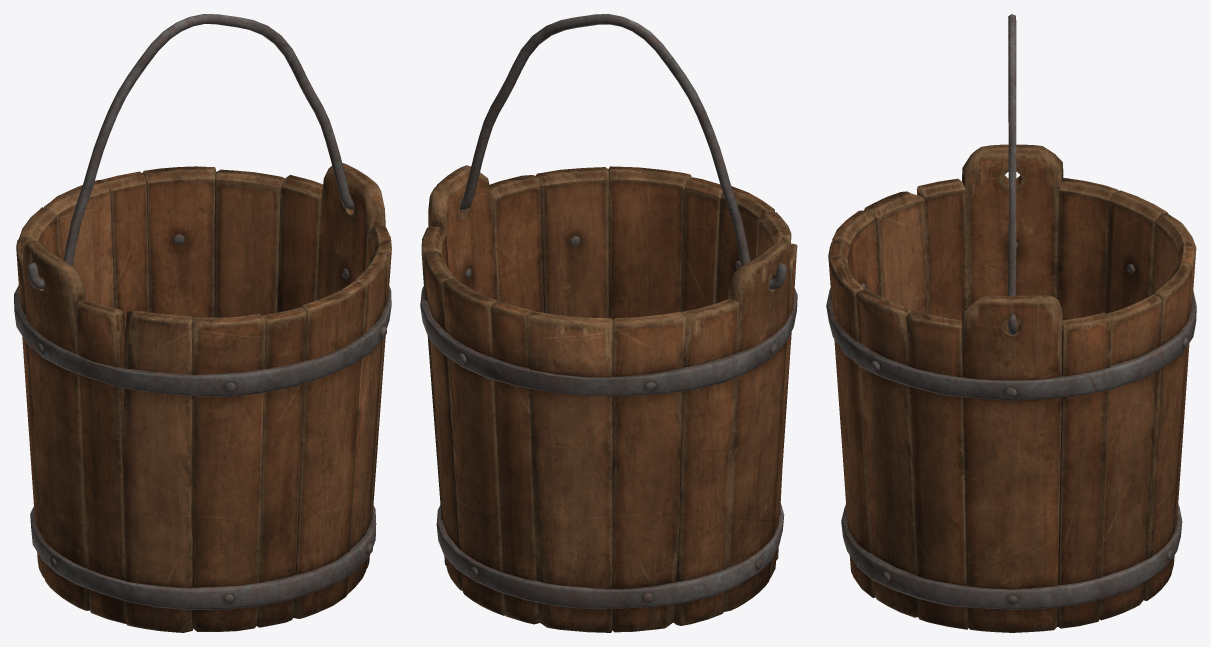
File: bucket.glb
The picture shows the model from 3 angles, left to right: view 1: azimuth 30°, elevation 25°; view 2: azimuth 150°, elevation 25°; view 3: azimuth 270°, elevation 25°; orthographic projection.
Visible parts, largest first — view 1: wooden_bucket_01, wooden_bucket_01_handle; view 2: wooden_bucket_01, wooden_bucket_01_handle; view 3: wooden_bucket_01, wooden_bucket_01_handle.
Part boxes in pixels (x1,y1,x2,y2): wooden_bucket_01: (14, 163, 391, 632); wooden_bucket_01_handle: (27, 14, 354, 289); wooden_bucket_01: (420, 165, 797, 632); wooden_bucket_01_handle: (437, 14, 786, 289); wooden_bucket_01: (826, 144, 1196, 632); wooden_bucket_01_handle: (1008, 14, 1016, 335).
Bounding box in the file's own units: 0.367 × 0.5499 × 0.3422.
Materials: 1 (1 with a texture image).
